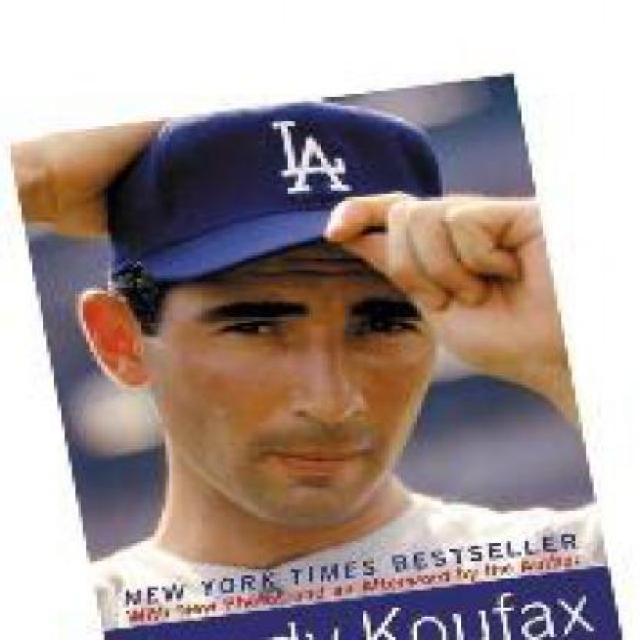closed-mouth: (266, 444, 368, 472)
